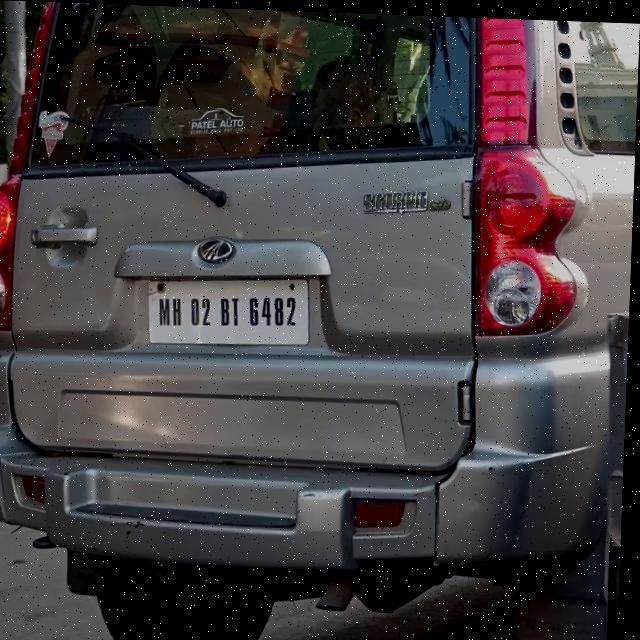plate: (147, 270, 314, 347)
